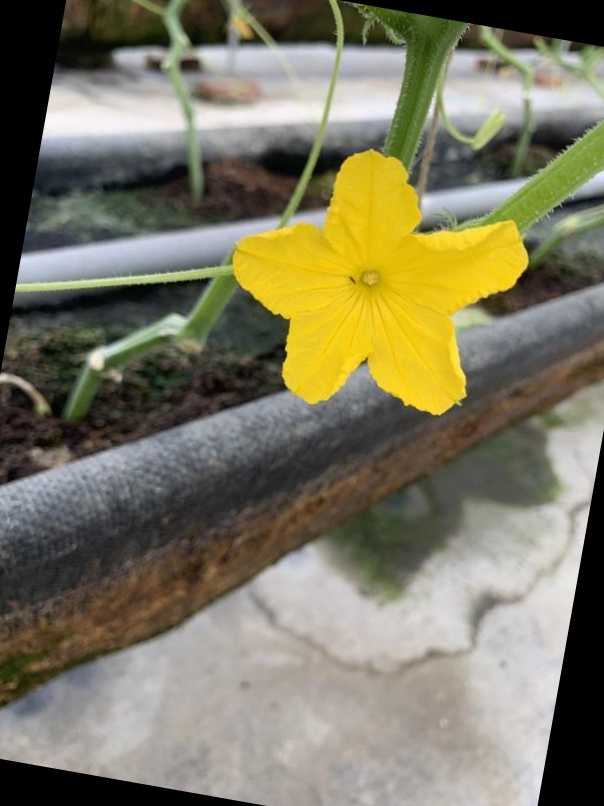flowering: (221, 152, 532, 414)
